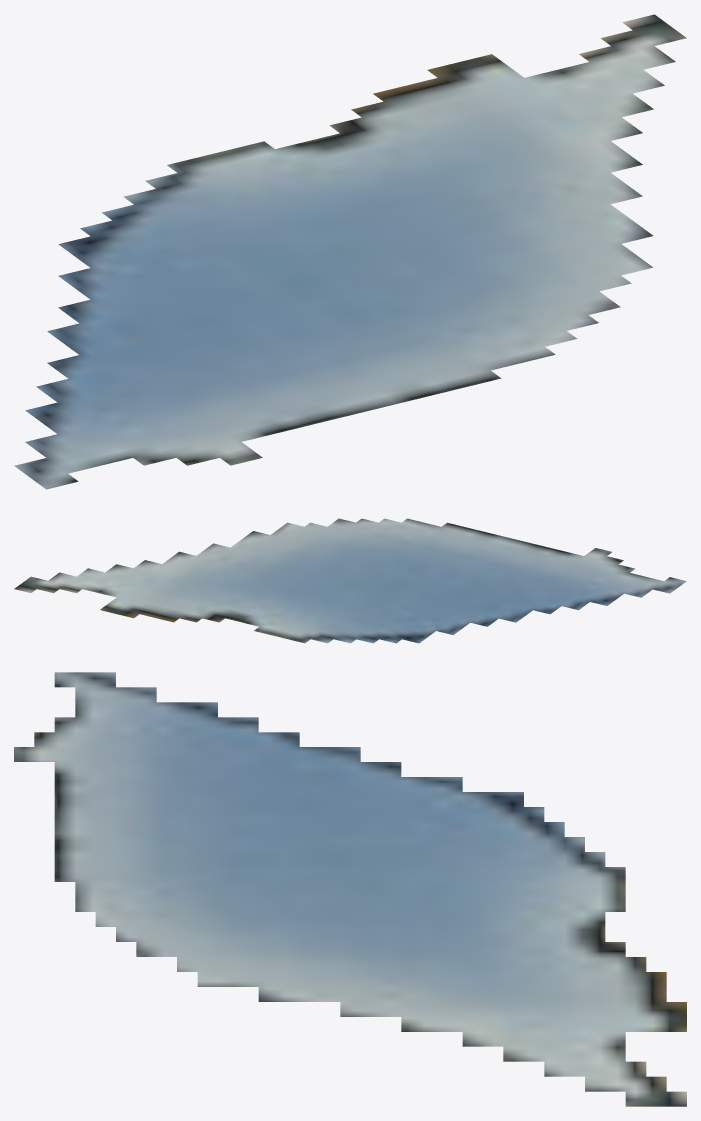
File: southern-med-sea.gltf
The picture shows the model from 3 angles, top to bottom: view 1: azimuth 30°, elevation 25°; view 2: azimuth 150°, elevation 25°; view 3: azimuth 270°, elevation 25°; orthographic projection. The views are drawn at different scales.
Visible parts, largest first — view 1: Plane; view 2: Plane; view 3: Plane.
Part boxes in pixels (x1,y1,x2,y2): Plane: (14,14,686,489); Plane: (14,518,686,643); Plane: (14,672,686,1106).
Bounding box in the file's own units: 0.2863 × 0 × 0.1874.
Materials: 1 (1 with a texture image).
